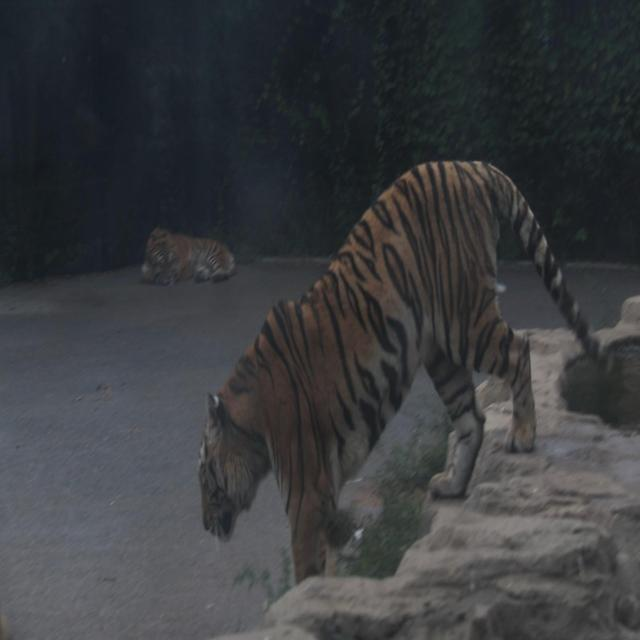tiger: (196, 157, 603, 584), (138, 225, 236, 286)
